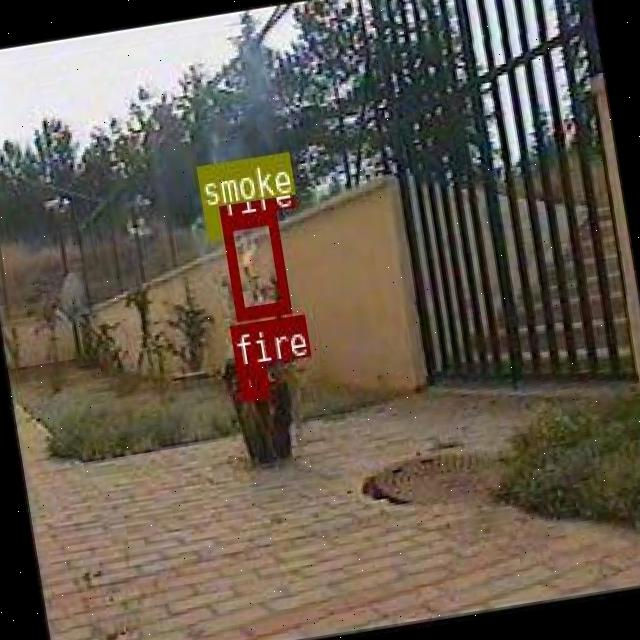fire: (220, 210, 289, 318), (235, 364, 268, 398)
smoke: (202, 207, 221, 240)
